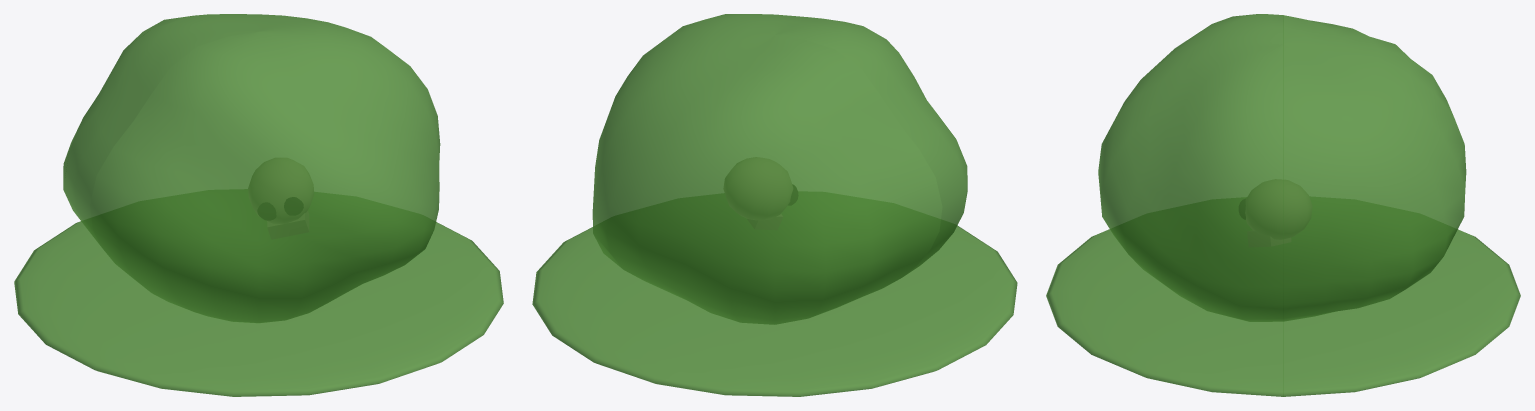
The model's file is suinteur.glb.
The picture shows the model from 3 angles, left to right: view 1: azimuth 30°, elevation 25°; view 2: azimuth 150°, elevation 25°; view 3: azimuth 270°, elevation 25°; orthographic projection. The views are drawn at different scales.
Parts seen in each view (by area): view 1: suinteur; view 2: suinteur; view 3: suinteur.
Boxes of the visible parts, left/top/right/bottom form: suinteur: left=14, top=14, right=503, bottom=396; suinteur: left=532, top=14, right=1017, bottom=396; suinteur: left=1046, top=14, right=1520, bottom=396.
Bounding box in the file's own units: 1.76 × 1.11 × 1.76.
